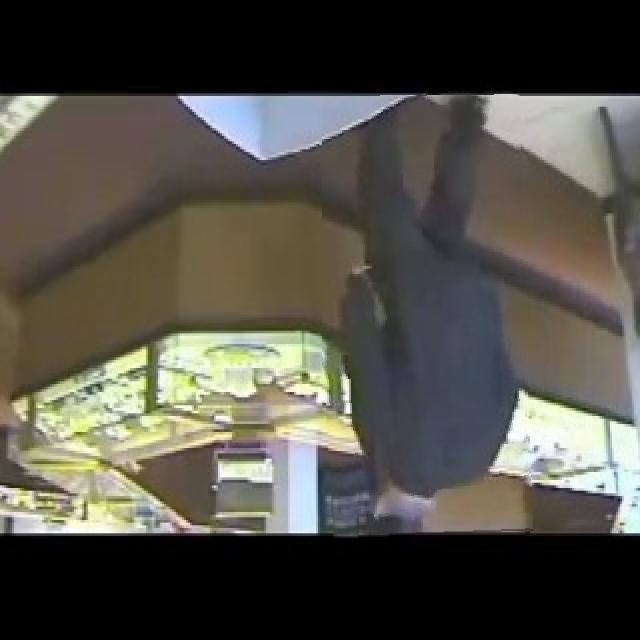Normal: (322, 95, 530, 537)
